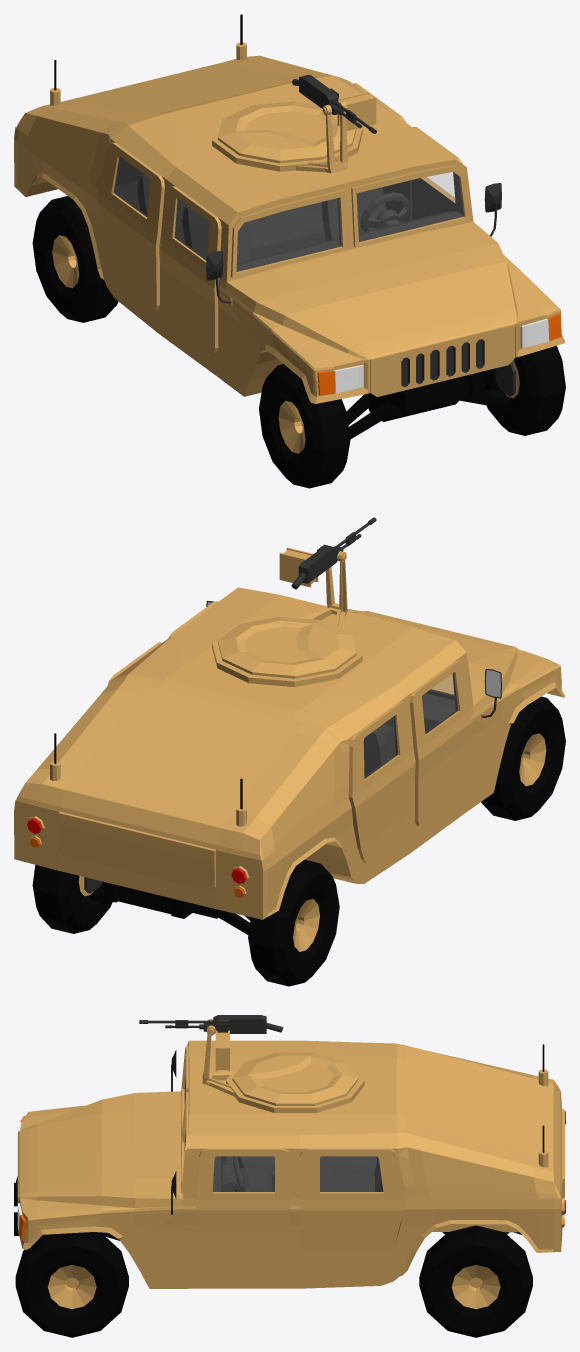
3 views of the same model, one above another, from view 1: azimuth 30°, elevation 25°; view 2: azimuth 150°, elevation 25°; view 3: azimuth 270°, elevation 25° (orthographic). The views are drawn at different scales.
Visible parts, largest first — view 1: Plane.020, Plane.025, Plane.022, Plane.021, Cylinder.010, Plane.028, Cylinder.009, Plane.024, Plane.029, Cylinder.008, Cube.004, Plane.026 (+2 smaller); view 2: Plane.020, Plane.029, Plane.021, Plane.028, Cylinder.009, Plane.023, Plane.024, Cylinder.010, Cylinder.011, Plane.025, Cube.004, Cube.005; view 3: Plane.020, Plane.027, Plane.026, Cylinder.011, Plane.029, Cylinder.008, Plane.024, Plane.025, Cube.004, Cube.005.
Part boxes in pixels (box(x1,y1,x2,y2)): Plane.020: box(14, 14, 565, 439); Plane.025: box(116, 157, 463, 271); Plane.022: box(237, 172, 463, 270); Plane.021: box(97, 142, 164, 310); Cylinder.010: box(259, 364, 350, 488); Plane.028: box(161, 186, 221, 353); Cylinder.009: box(32, 196, 118, 322); Plane.024: box(218, 101, 356, 163); Plane.029: box(65, 63, 295, 115); Cylinder.008: box(482, 345, 565, 435); Cube.004: box(292, 75, 376, 133); Plane.026: box(412, 127, 462, 219); Plane.020: box(14, 587, 565, 934); Plane.029: box(60, 694, 295, 849); Plane.021: box(348, 701, 413, 863); Plane.028: box(410, 660, 471, 825); Cylinder.009: box(248, 859, 339, 986); Plane.023: box(58, 811, 215, 891); Plane.024: box(218, 616, 356, 678); Cylinder.010: box(481, 696, 565, 820); Cylinder.011: box(32, 865, 112, 933); Plane.025: box(363, 689, 455, 776); Cube.004: box(279, 517, 376, 589); Cube.005: box(299, 551, 347, 629); Plane.020: box(14, 1040, 565, 1288); Plane.027: box(300, 1148, 406, 1270); Plane.026: box(196, 1148, 290, 1270); Cylinder.011: box(419, 1225, 532, 1337); Plane.029: box(419, 1058, 561, 1178); Cylinder.008: box(15, 1232, 128, 1337); Plane.024: box(232, 1052, 358, 1105); Plane.025: box(184, 1077, 383, 1191); Cube.004: box(139, 1015, 283, 1071); Cube.005: box(202, 1019, 234, 1096).
Size of the model in its own units: 242 by 236 by 438.
